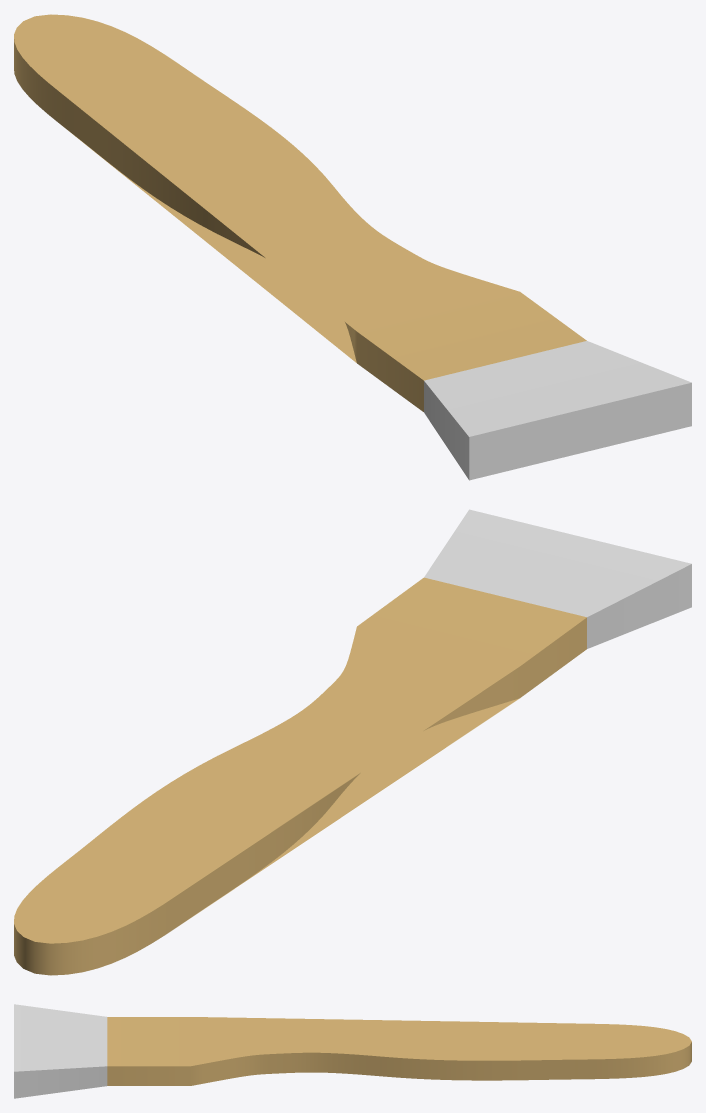
File: PaintBrush.fbx
3 renders of one model, top to bottom at view 1: azimuth 30°, elevation 25°; view 2: azimuth 150°, elevation 25°; view 3: azimuth 270°, elevation 25°, orthographic. The views are drawn at different scales.
Visible parts, largest first — view 1: Paintbrush; view 2: Paintbrush; view 3: Paintbrush.
Boxes of the visible parts, left/top/right/bottom form: Paintbrush: left=14, top=14, right=691, bottom=480; Paintbrush: left=14, top=509, right=691, bottom=975; Paintbrush: left=14, top=1004, right=691, bottom=1098.
Size of the model in its own units: 4.85 by 0.904 by 20.56.
